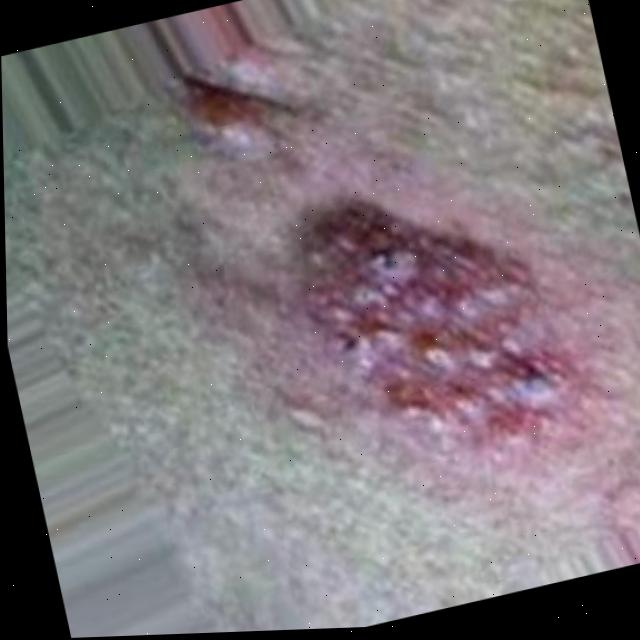Shingles: (287, 182, 572, 478)
